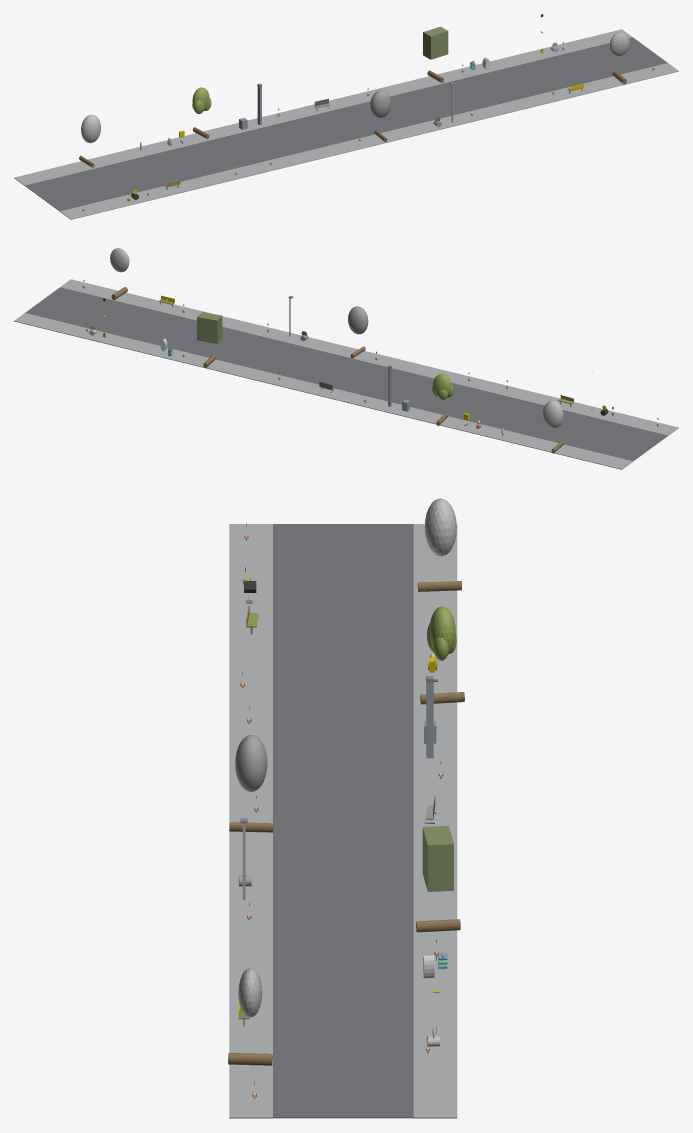
The picture shows the model from 3 angles, top to bottom: view 1: azimuth 30°, elevation 25°; view 2: azimuth 150°, elevation 25°; view 3: azimuth 270°, elevation 25°; orthographic projection. The views are drawn at different scales.
Visible parts, largest first — view 1: road_slab, sidewalk_left, sidewalk_right, inst_0015, inst_0012, inst_0014, inst_0013, inst_0016; view 2: road_slab, sidewalk_right, sidewalk_left, inst_0015, inst_0012, inst_0014, inst_0013, inst_0016; view 3: road_slab, sidewalk_left, sidewalk_right, inst_0015, inst_0012, inst_0014, inst_0013, inst_0016.
Boxes of the visible parts, x1,y1,x2,y2 form: road_slab: (25,37,667,211); sidewalk_left: (60,63,678,219); sidewalk_right: (14,29,632,185); inst_0015: (423,26,448,82); inst_0012: (79,114,100,167); inst_0014: (370,90,391,142); inst_0013: (192,87,211,139); inst_0016: (609,32,629,84); road_slab: (25,287,667,461); sidewalk_right: (14,313,632,469); sidewalk_left: (60,279,678,435); inst_0015: (197,312,222,368); inst_0012: (542,400,563,453); inst_0014: (348,306,368,358); inst_0013: (432,373,453,425); inst_0016: (110,248,129,299); road_slab: (273,524,413,1118); sidewalk_left: (229,524,272,1118); sidewalk_right: (413,524,457,1118); inst_0015: (416,825,460,932); inst_0012: (417,498,461,591); inst_0014: (229,735,273,832); inst_0013: (420,606,464,704); inst_0016: (228,967,272,1065).
Bounding box in the file's own units: 80 × 6.08 × 13.49.
